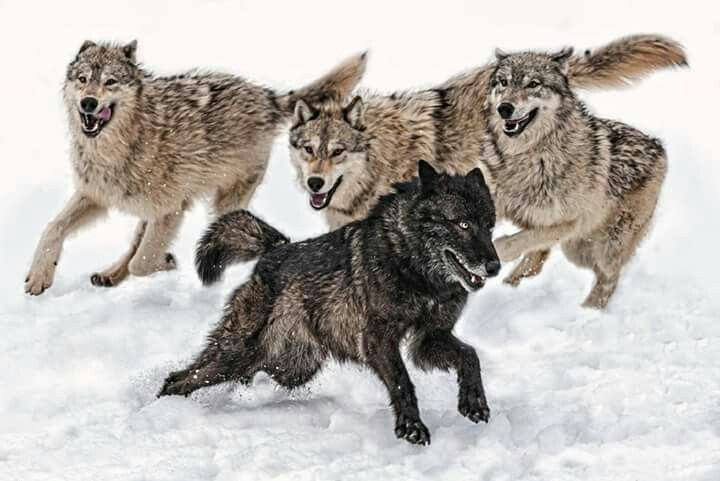wolf: (5, 16, 378, 312), (265, 16, 688, 269), (146, 161, 516, 437), (471, 43, 673, 326)
